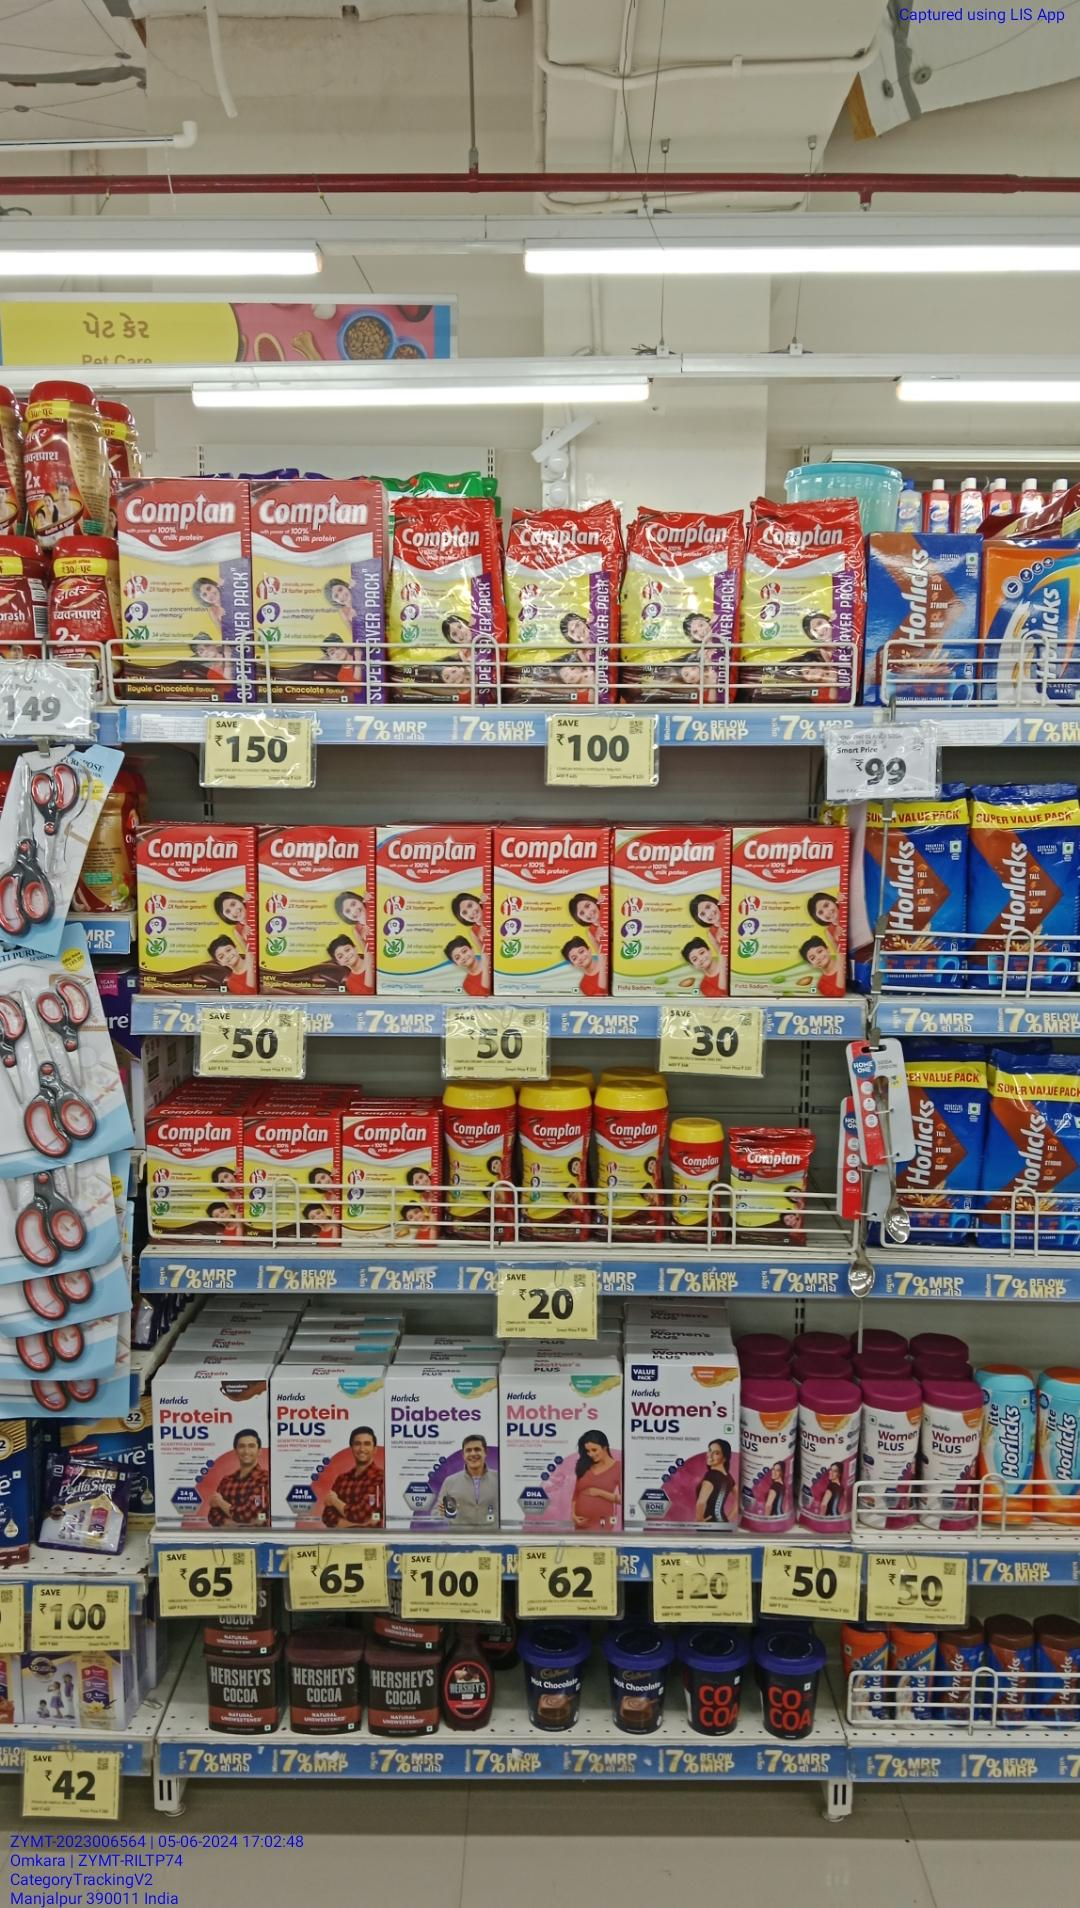COMPLAN_CHOCOLATE_200_GMS_JAR: (668, 1119, 721, 1245)
COMPLAN_CHOCOLATE_500_GMS_JAR: (516, 1084, 588, 1242), (594, 1085, 665, 1238), (444, 1086, 511, 1237)
COMPLAN_CREAMY_CLASSIC_500_G_PACK: (376, 830, 490, 996), (495, 828, 607, 997)
COMPLAN_KESAR_BADAM_200_GMS_PACK: (342, 1118, 440, 1245)
COMPLAN_PISTA_BADAM_500_GMS_PACK: (613, 831, 727, 997), (733, 831, 847, 995)
HORLICKS_LITE_REGULAR_MALT_500_GM_JAR: (982, 1368, 1033, 1523)
HORLICK_CHOCOLATE_500_G_PACK: (866, 533, 976, 706)
HORLICK_CHOCOLATE_750_G_POUCH: (857, 790, 966, 987), (973, 789, 1077, 991)
HORLICK_CLASSIC_MALT_500_G_PACK: (984, 546, 1080, 704)
